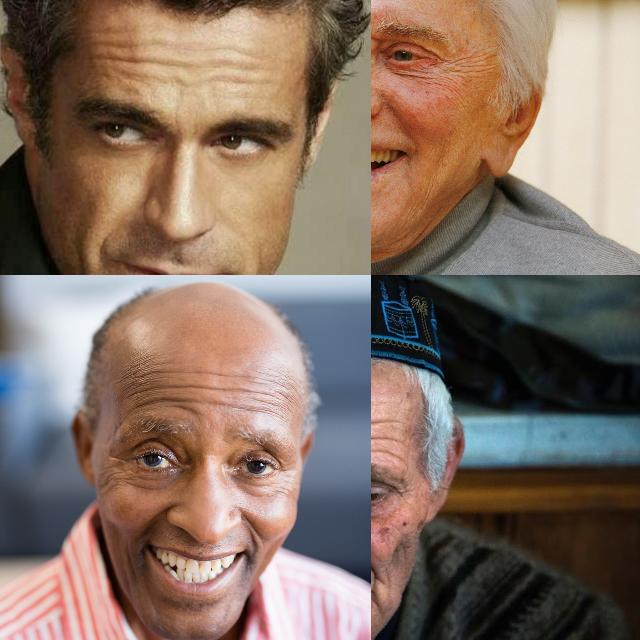crows_feet: (108, 451, 134, 485), (432, 54, 458, 82)
forehead: (94, 34, 140, 86), (211, 51, 255, 91), (145, 46, 191, 80), (256, 384, 292, 422), (168, 392, 204, 422), (172, 372, 212, 398), (128, 380, 160, 412), (221, 382, 251, 412), (371, 412, 397, 432), (371, 432, 388, 458)
gummy_smile: (242, 512, 266, 548), (371, 542, 378, 573)
masseter: (120, 547, 138, 577)
